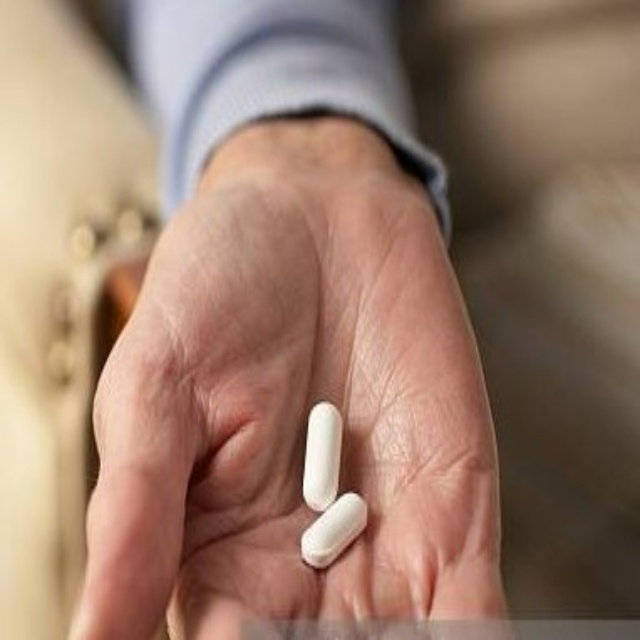pill: (180, 199, 219, 229), (181, 161, 204, 207)
